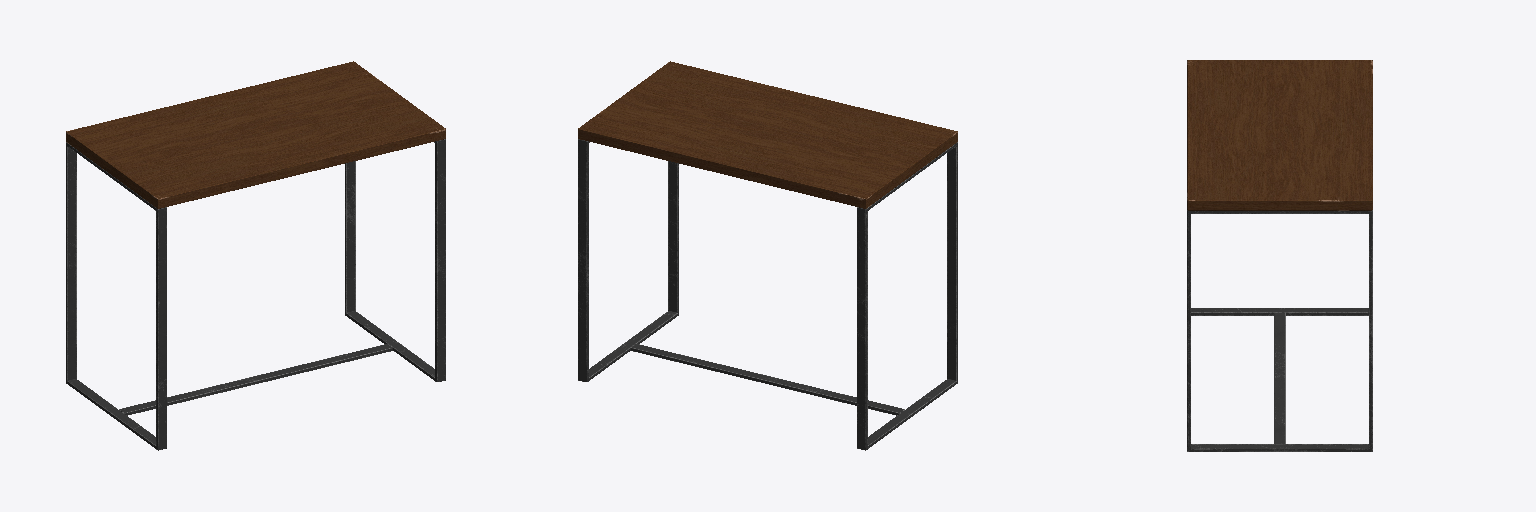
3 views of the same model, side by side, from view 1: azimuth 30°, elevation 25°; view 2: azimuth 150°, elevation 25°; view 3: azimuth 270°, elevation 25° (orthographic).
Visible parts, largest first — view 1: Mesa_modelo_01_Table_Material_0; view 2: Mesa_modelo_01_Table_Material_0; view 3: Mesa_modelo_01_Table_Material_0.
Boxes of the visible parts, x1=… form: Mesa_modelo_01_Table_Material_0: x1=66, y1=61, x2=445, y2=450; Mesa_modelo_01_Table_Material_0: x1=578, y1=61, x2=957, y2=450; Mesa_modelo_01_Table_Material_0: x1=1187, y1=60, x2=1372, y2=451.
Bounding box in the file's own units: 90 × 75 × 50.
Materials: 1 (1 with a texture image).